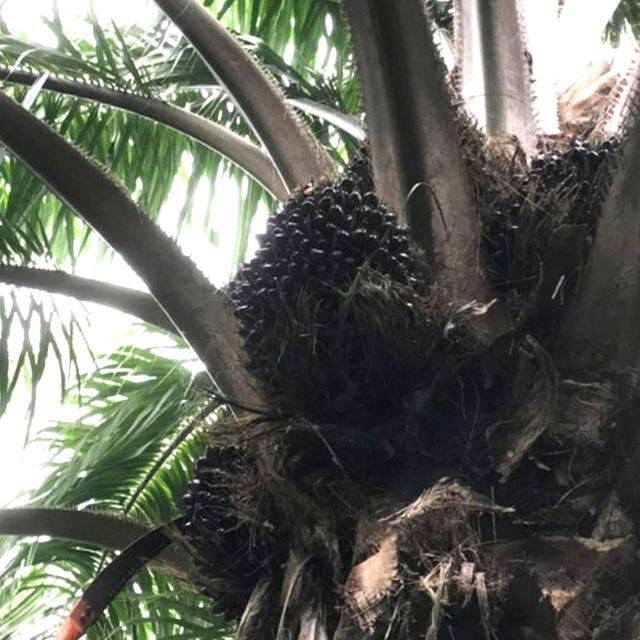ripe: (227, 173, 443, 406), (477, 126, 620, 297), (183, 436, 301, 618)
